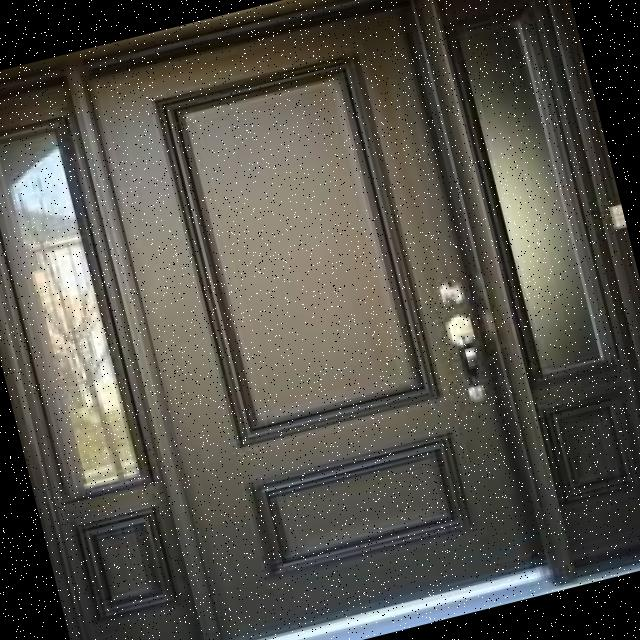Door: (86, 0, 558, 640)
